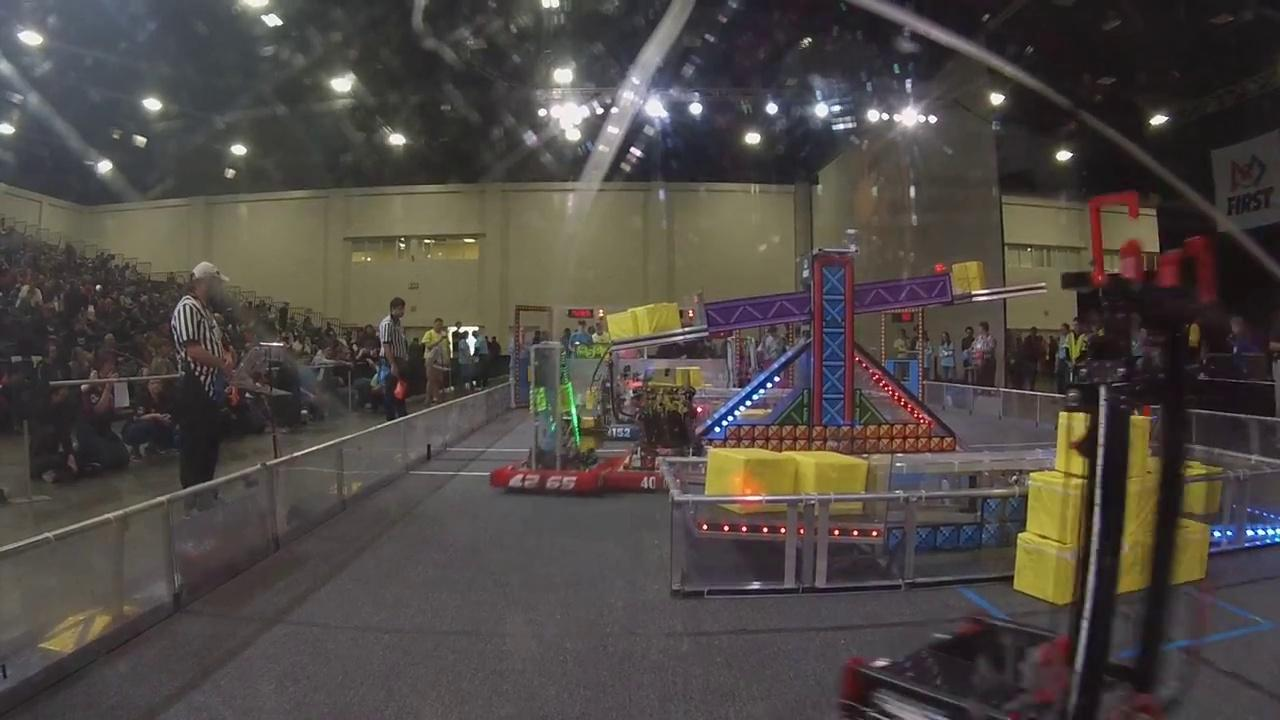robot: (834, 188, 1174, 720), (486, 341, 605, 494), (607, 371, 700, 497), (594, 360, 643, 441)
